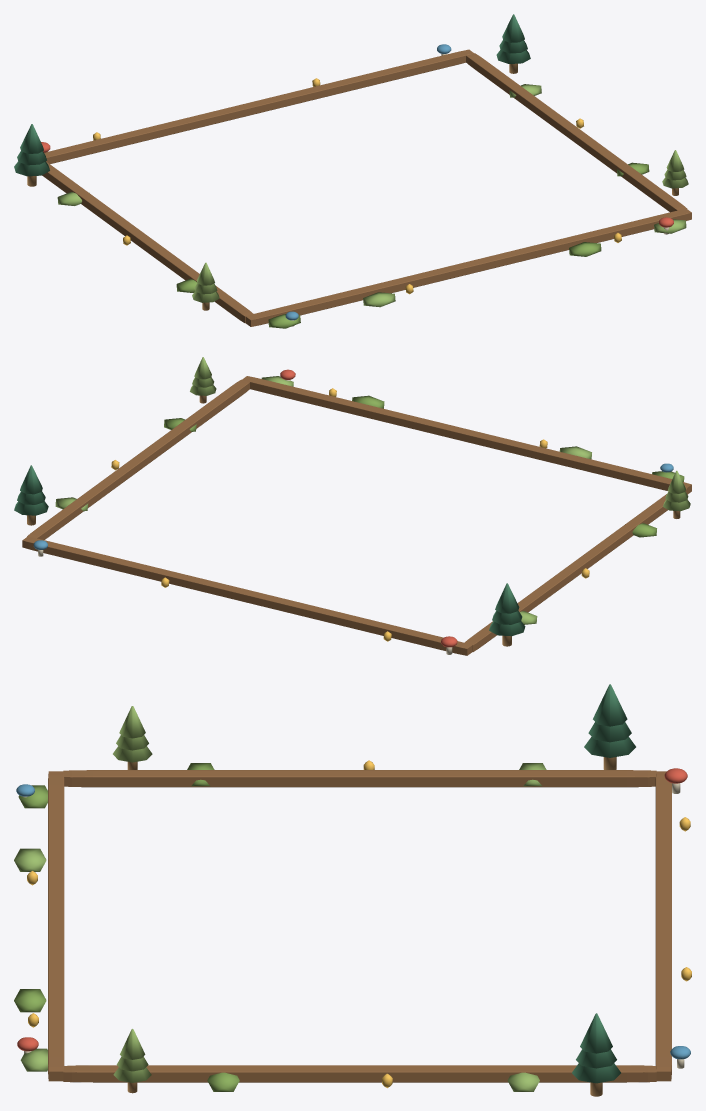
Rendered from forest_board_decor.glb.
The picture shows the model from 3 angles, top to bottom: view 1: azimuth 30°, elevation 25°; view 2: azimuth 150°, elevation 25°; view 3: azimuth 270°, elevation 25°; orthographic projection. The views are drawn at different scales.
Parts seen in each view (by area): view 1: Frame.North, Frame.South, Frame.East, Frame.West; view 2: Frame.South, Frame.North, Frame.East, Frame.West; view 3: Frame.West, Frame.East, Frame.South, Frame.North, NW.Crown.3, NE.Crown.3, NW.Crown.1, NE.Crown.1, Moss.2, Moss.3, NW.Crown.2.
Boxes of the visible parts, x1,y1,x2,y2 form: Frame.North: [44, 49, 473, 163]; Frame.South: [245, 208, 691, 326]; Frame.East: [466, 53, 687, 212]; Frame.West: [42, 161, 253, 323]; Frame.South: [242, 376, 691, 494]; Frame.North: [22, 536, 472, 655]; Frame.East: [27, 379, 249, 539]; Frame.West: [464, 488, 687, 651]; Frame.West: [63, 770, 656, 787]; Frame.East: [63, 1065, 656, 1082]; Frame.South: [48, 771, 64, 1081]; Frame.North: [655, 771, 671, 1081]; NW.Crown.3: [593, 684, 627, 726]; NE.Crown.3: [580, 1013, 612, 1053]; NW.Crown.1: [584, 736, 635, 757]; NE.Crown.1: [572, 1063, 620, 1083]; Moss.2: [14, 848, 46, 871]; Moss.3: [14, 989, 46, 1012]; NW.Crown.2: [588, 722, 631, 742].
Size of the model in its own units: 18.02 by 2.11 by 14.91.
